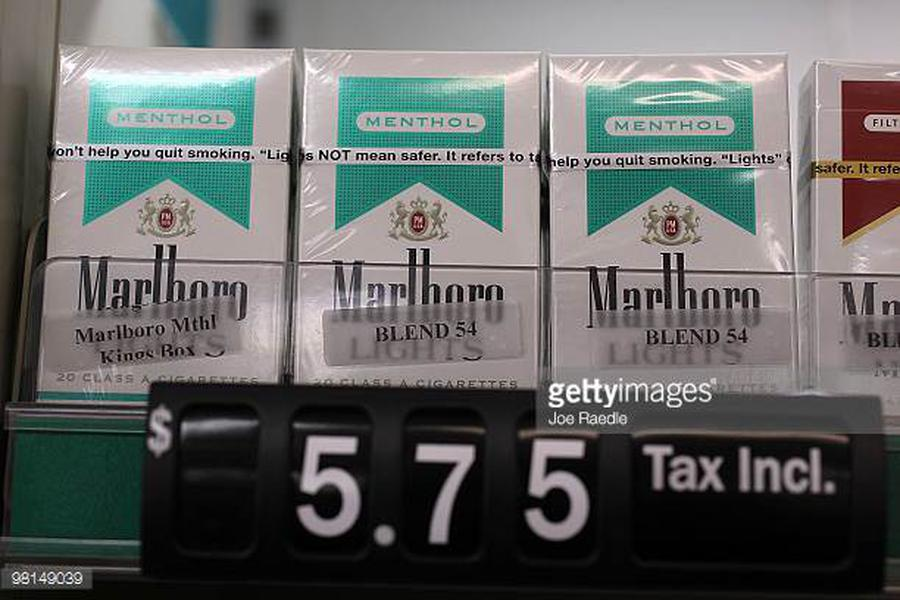marlboro_mentol: (52, 46, 285, 402), (552, 57, 788, 398), (302, 54, 533, 386)
marlboro_red: (819, 65, 900, 414)
